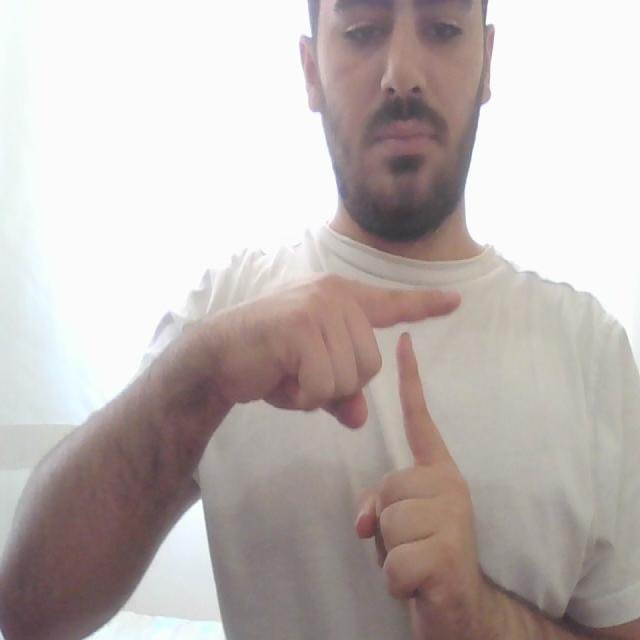Tesekkurler: (342, 271, 472, 496)
